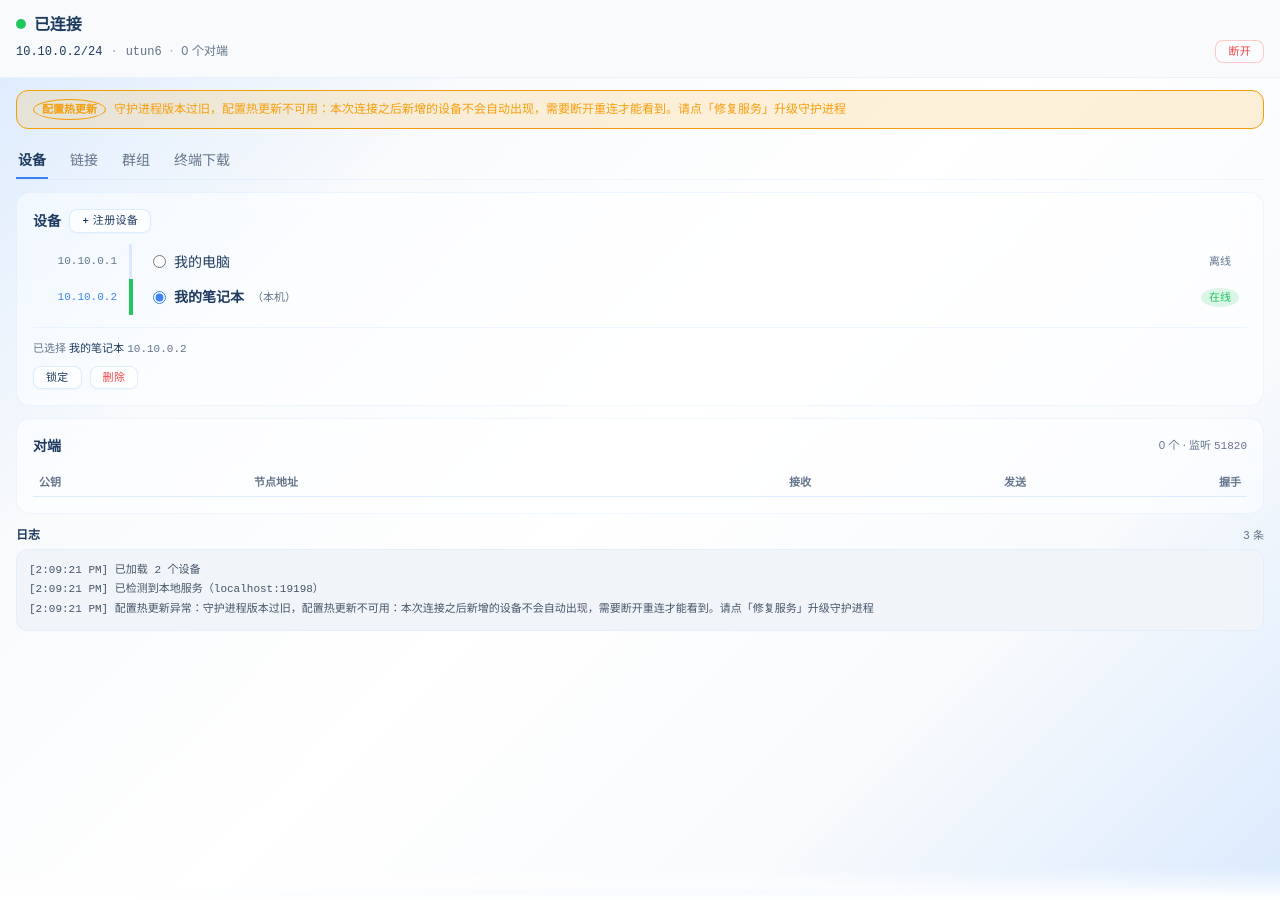
Test: HuanvaeGuardPage 选中态从守护进程回读（V3） › 🔴 手选优先：用户改选另一台后，设备列表重新拉取也不会把他拽回在跑的那台
The width and height of the screenshot is (1280, 900).
Expected: the text "我的笔记本" is shown, [174,288,244,305]
Expected: the radio button labelled "10.10.0.2 我的笔记本 （本机） 在线" is checked, [153,291,166,304]
Click the radio button labelled "10.10.0.1 我的电脑 离线": (160, 262) [153,255,166,268]
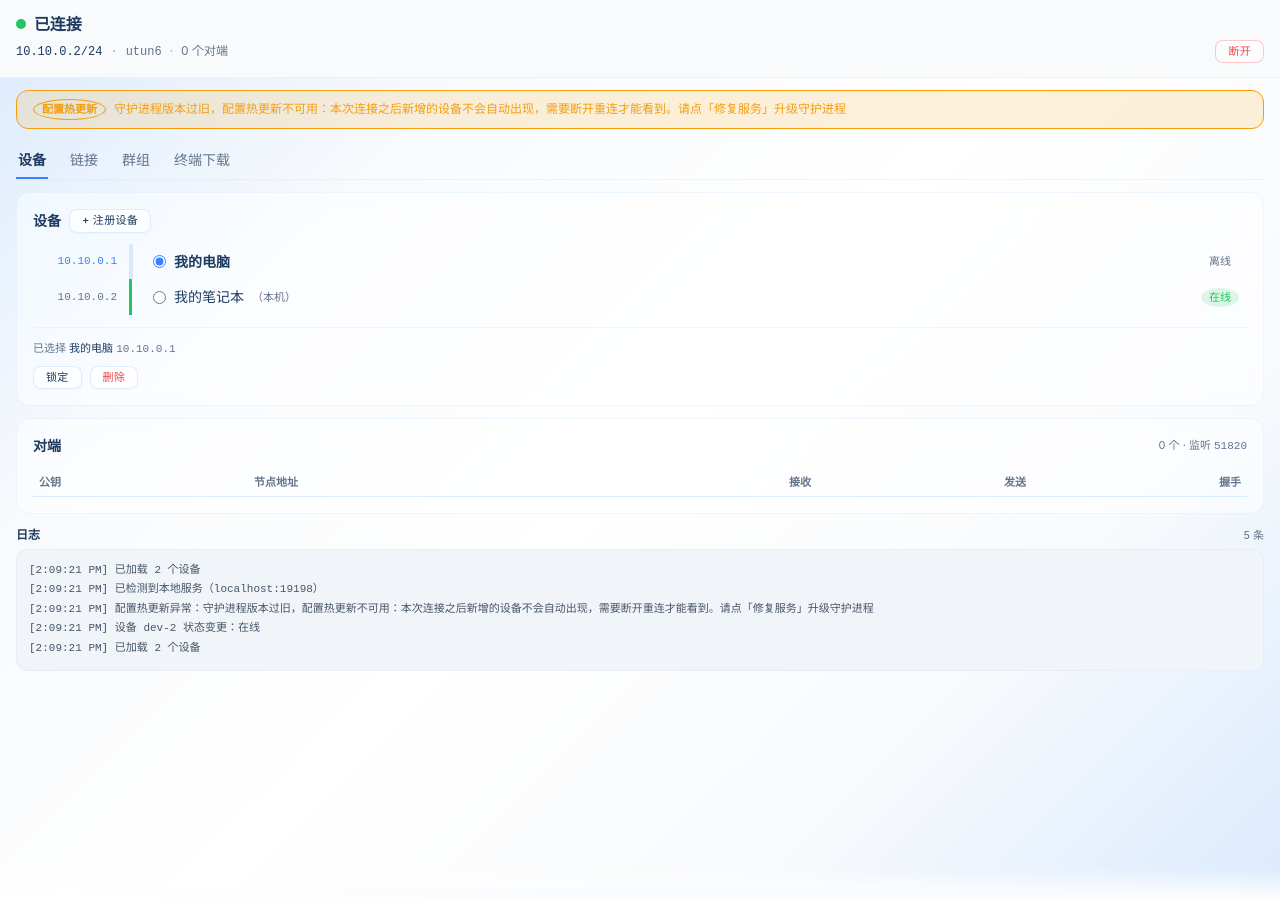
Expected: the text "我的电脑" is shown, [174,253,230,270]
Result: the radio button labelled "10.10.0.1 我的电脑 离线" is checked at [153,255,166,268]
Result: the radio button labelled "10.10.0.2 我的笔记本 （本机） 在线" is not checked at [153,291,166,304]
